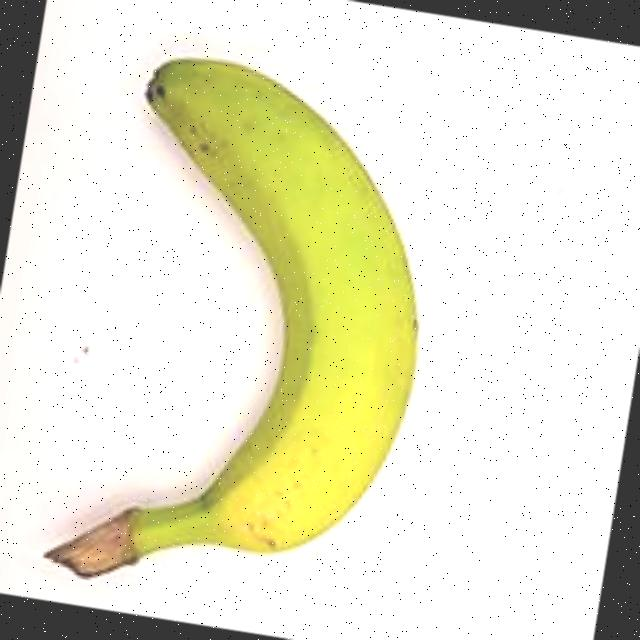Unripe: (7, 12, 473, 634)
